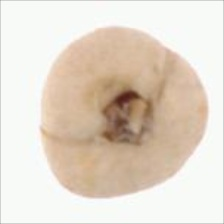L3: (96, 89, 157, 146)
L4: (40, 26, 209, 199)
